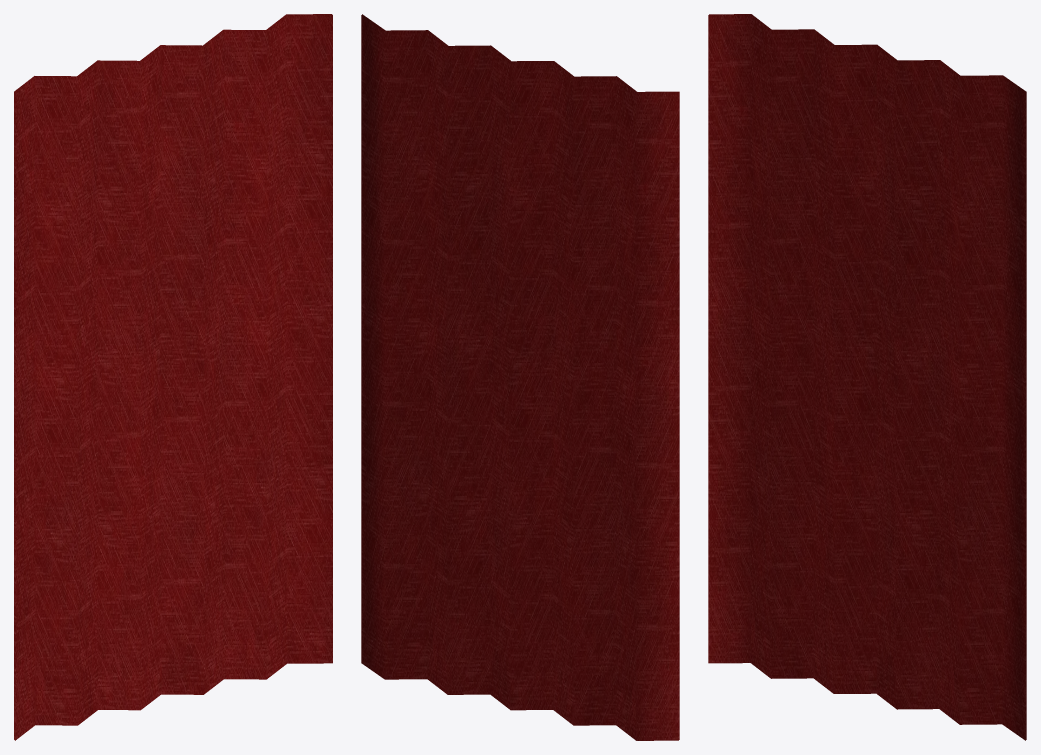
File: stage-curtain-invite.glb
The picture shows the model from 3 angles, left to right: view 1: azimuth 30°, elevation 25°; view 2: azimuth 150°, elevation 25°; view 3: azimuth 330°, elevation 25°; orthographic projection.
Parts seen in each view (by area): view 1: Stage_Curtain_Invite; view 2: Stage_Curtain_Invite; view 3: Stage_Curtain_Invite.
Part boxes in pixels (x1,y1,x2,y2): Stage_Curtain_Invite: (14,14,332,740); Stage_Curtain_Invite: (361,14,679,740); Stage_Curtain_Invite: (708,14,1026,740).
Bounding box in the file's own units: 1.08 × 2.1 × 0.07.
1 material, 1 textured.
